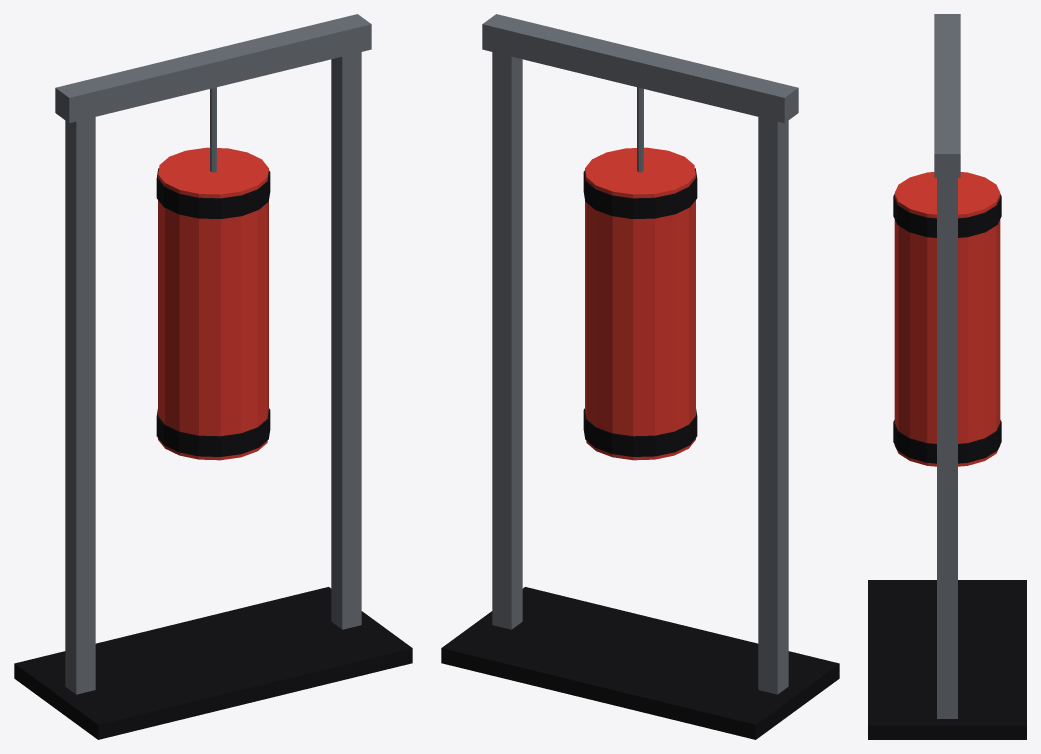
File: heavy_bag.glb
3 views of the same model, side by side, from view 1: azimuth 30°, elevation 25°; view 2: azimuth 150°, elevation 25°; view 3: azimuth 270°, elevation 25° (orthographic). The views are drawn at different scales.
Parts seen in each view (by area): view 1: Cube; view 2: Cube; view 3: Cube.
Part boxes in pixels (x1=…): Cube: x1=14, y1=14, x2=412, y2=739; Cube: x1=441, y1=14, x2=839, y2=739; Cube: x1=868, y1=14, x2=1026, y2=739.
Bounding box in the file's own units: 1.3 × 2.43 × 0.6.
